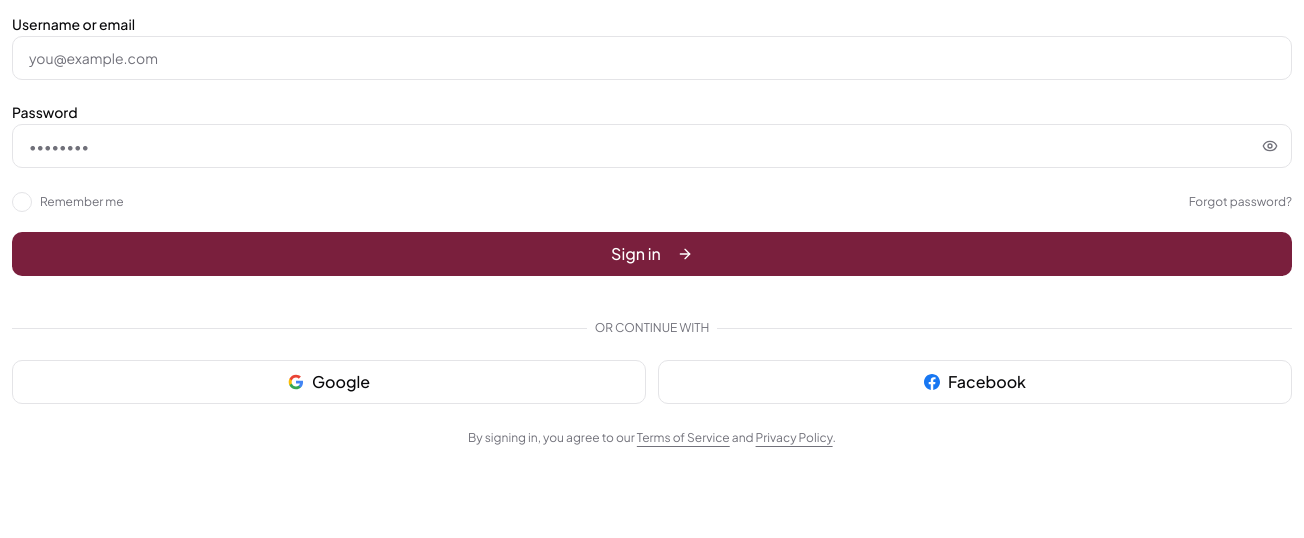
it: LoginForm (F8.2) › shows a safe generic error banner on a 429 throttle response (F8.4)
Type "user@example.com" into the field labelled "Username or email".
click(652, 58); type("user@example.com")  # box [12, 36, 1292, 80]
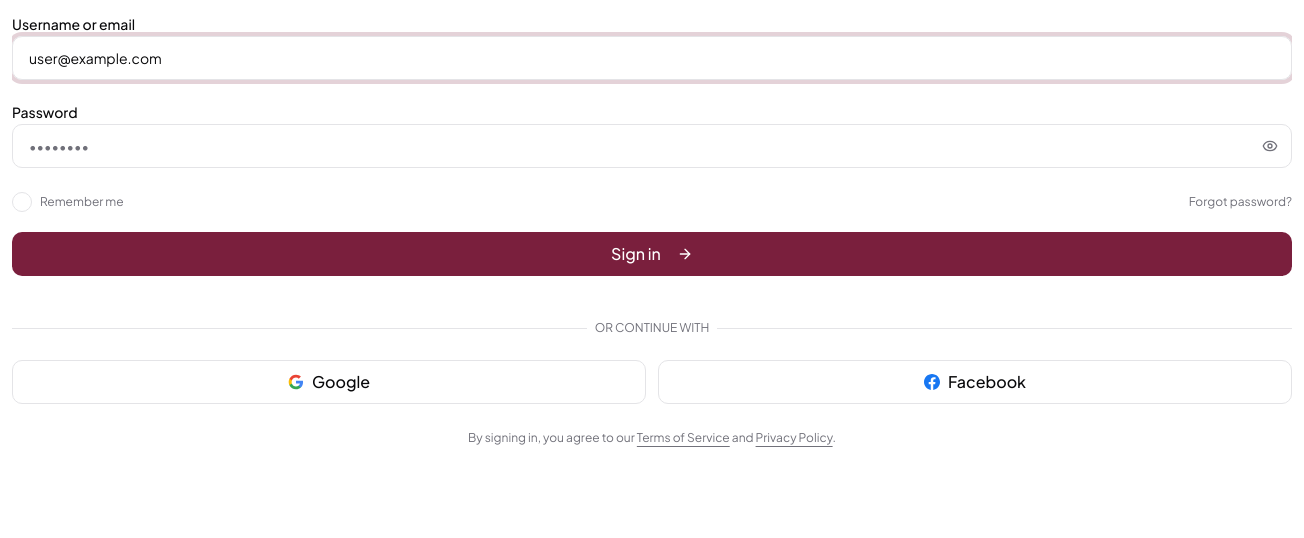
Type "password123" into the password field with placeholder "••••••••".
click(652, 146); type("password123")  # box [12, 124, 1292, 168]
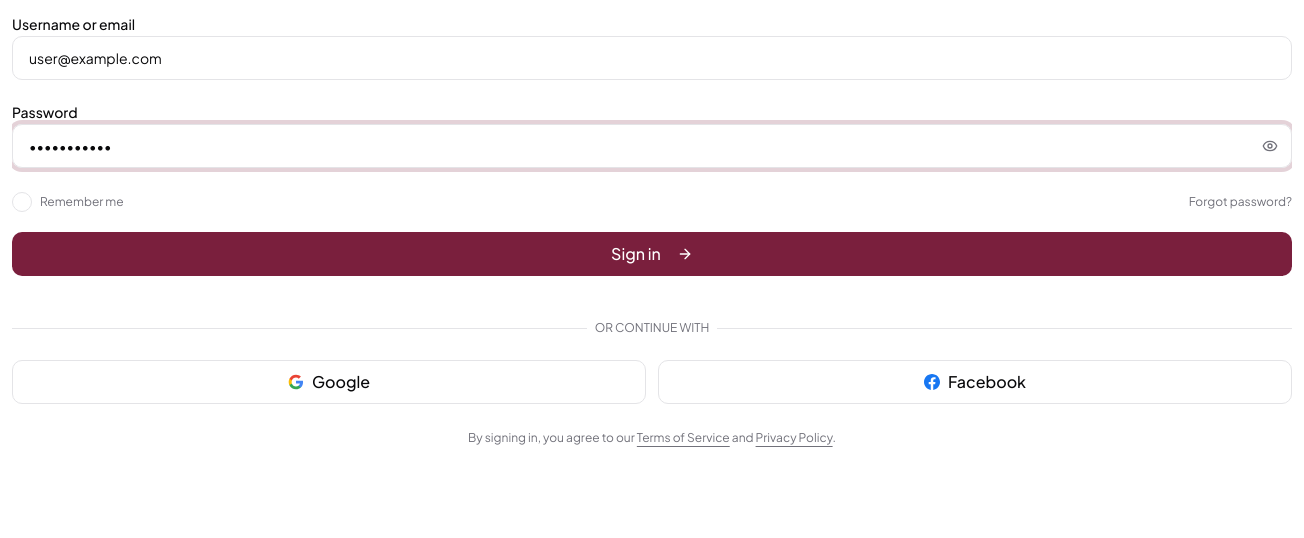
Click the button "Sign in".
click(652, 254)  # box [12, 232, 1292, 276]
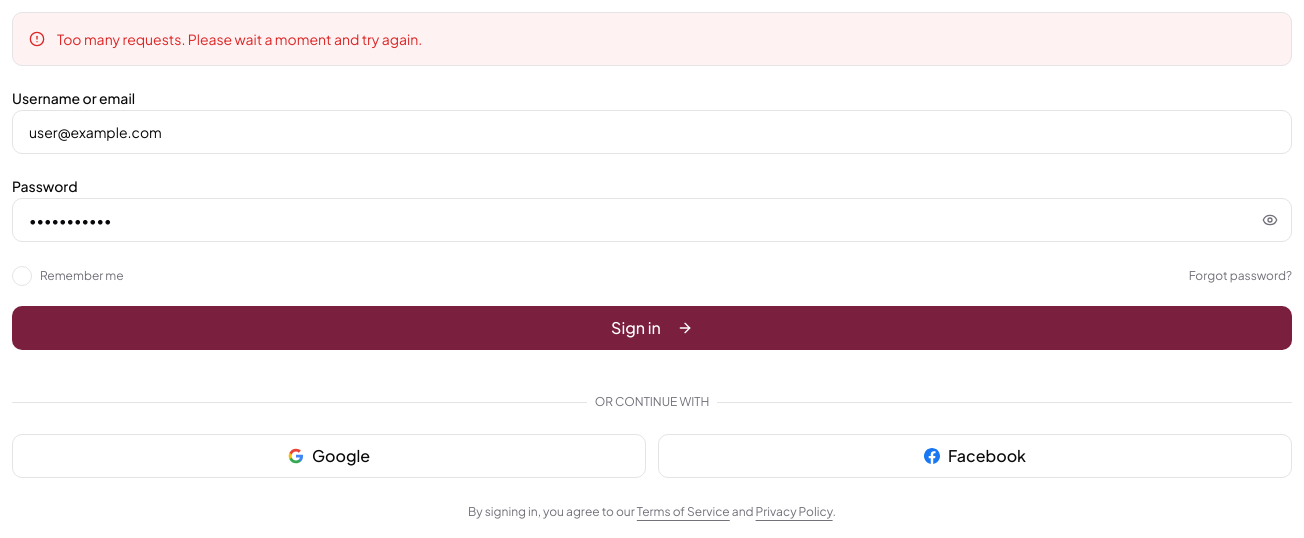
Result: the message "Too many requests. Please wait a moment and try again." is shown at [12, 12, 1292, 66]
Result: the message reads "Too many requests. Please wait a moment and try again." at [57, 30, 422, 48]
